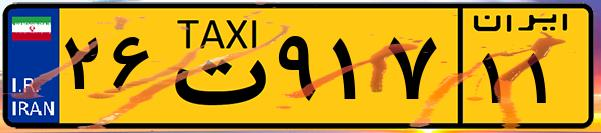1: (330, 28, 385, 110), (475, 38, 525, 113), (525, 38, 570, 115)
2: (57, 26, 110, 100)
6: (110, 28, 158, 98)
7: (385, 28, 445, 110)
9: (270, 28, 330, 110)
ت: (158, 12, 270, 120)
